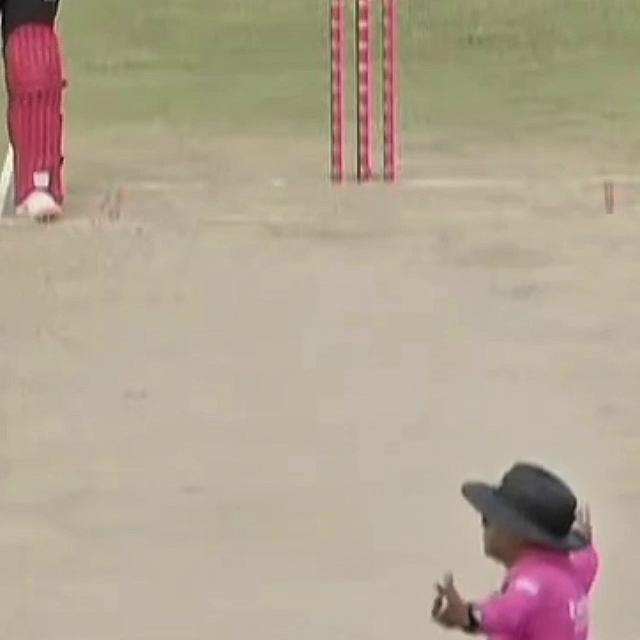umpire: (425, 450, 640, 640)
